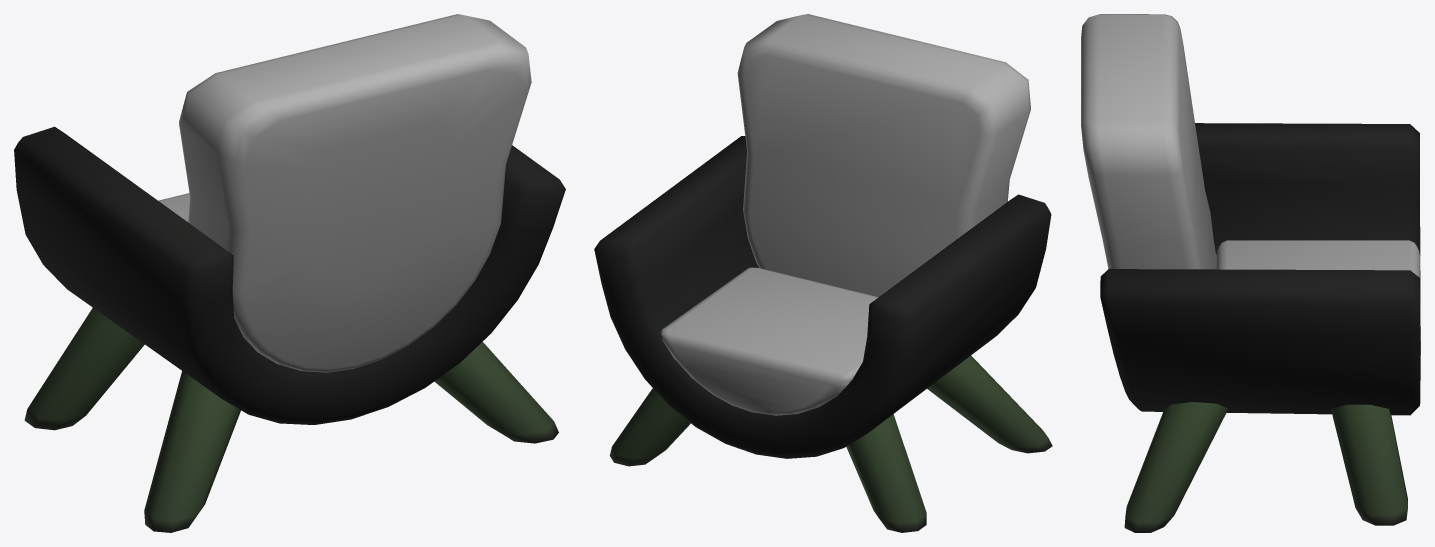
The model's file is Chair_Purple.fbx.
3 views of the same model, side by side, from view 1: azimuth 30°, elevation 25°; view 2: azimuth 150°, elevation 25°; view 3: azimuth 270°, elevation 25° (orthographic). The views are drawn at different scales.
Parts seen in each view (by area): view 1: Chair; view 2: Chair; view 3: Chair.
Part boxes in pixels (box(x1,y1,x2,y2)): Chair: box(14, 14, 565, 532); Chair: box(594, 14, 1052, 532); Chair: box(1081, 14, 1420, 532).
Bounding box in the file's own units: 93.55 × 94.76 × 76.57.
